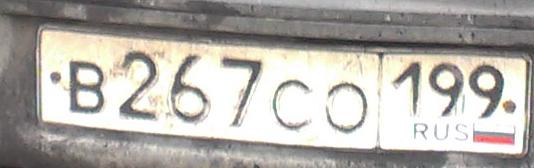license-plateSW: (34, 21, 530, 162)
